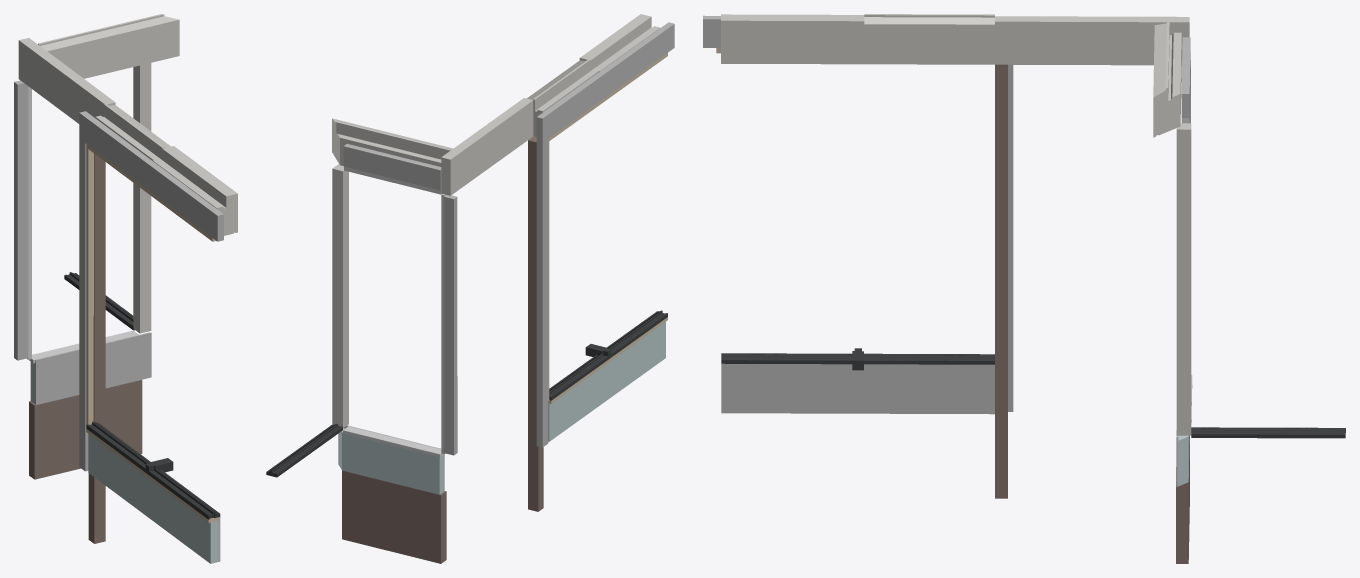
The picture shows the model from 3 angles, left to right: view 1: azimuth 30°, elevation 25°; view 2: azimuth 150°, elevation 25°; view 3: azimuth 270°, elevation 25°; orthographic projection. The views are drawn at different scales.
Bounding box in the file's own units: 1.65 × 4.15 × 4.98.
